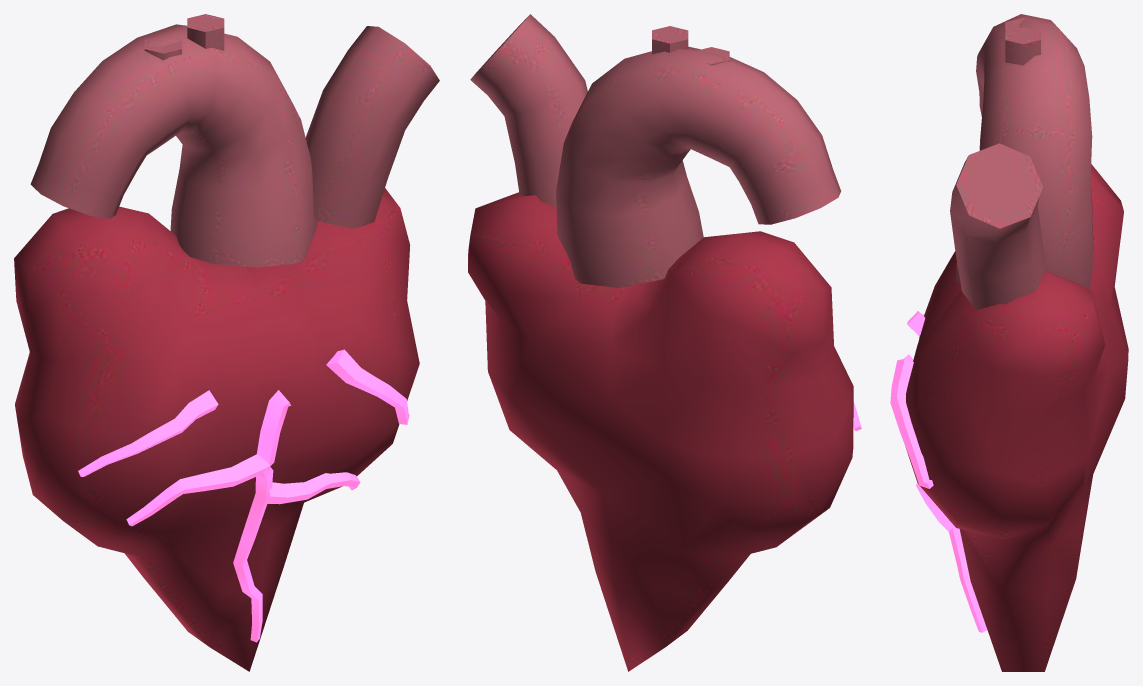
The model's file is heart.glb.
The picture shows the model from 3 angles, left to right: view 1: azimuth 30°, elevation 25°; view 2: azimuth 150°, elevation 25°; view 3: azimuth 270°, elevation 25°; orthographic projection. The views are drawn at different scales.
Parts seen in each view (by area): view 1: heart_mesh; view 2: heart_mesh; view 3: heart_mesh.
Part boxes in pixels (x1,y1,x2,y2): heart_mesh: (14,14,439,671); heart_mesh: (468,14,861,671); heart_mesh: (890,14,1128,671).
Bounding box in the file's own units: 0.7318 × 1.17 × 0.4067.
2 materials, 1 textured.
